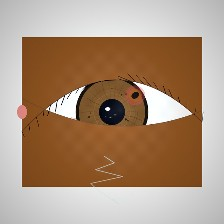foreign_body_visible: (115, 79, 156, 112)
